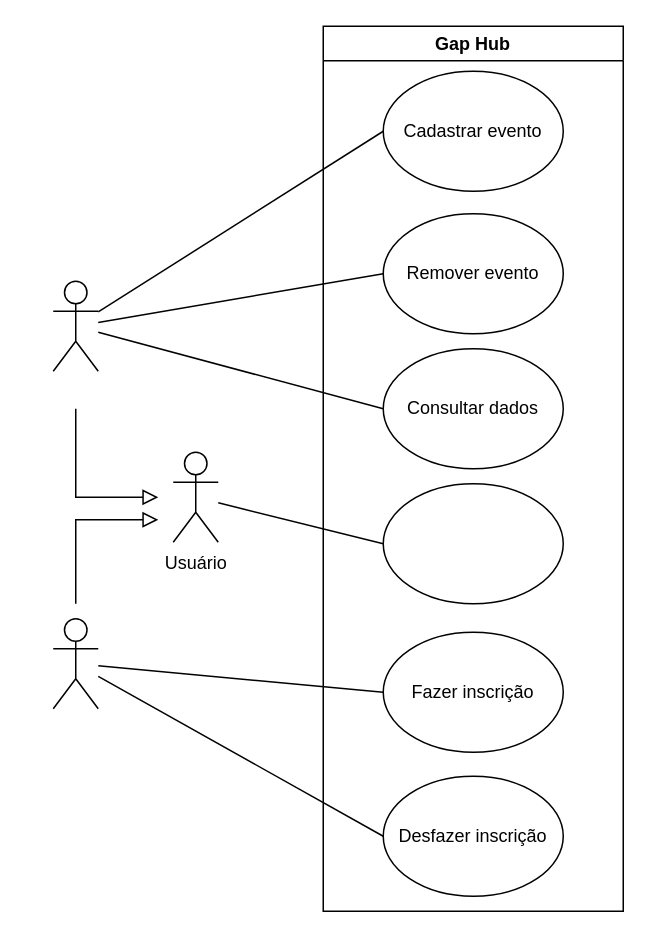
This 650x938 diagram has some shape labels left out. Each missing label, with the centre of its shape:
Adolescente: (x=75, y=663)
Consultar inscrições: (x=472, y=543)
Líder: (x=75, y=325)
